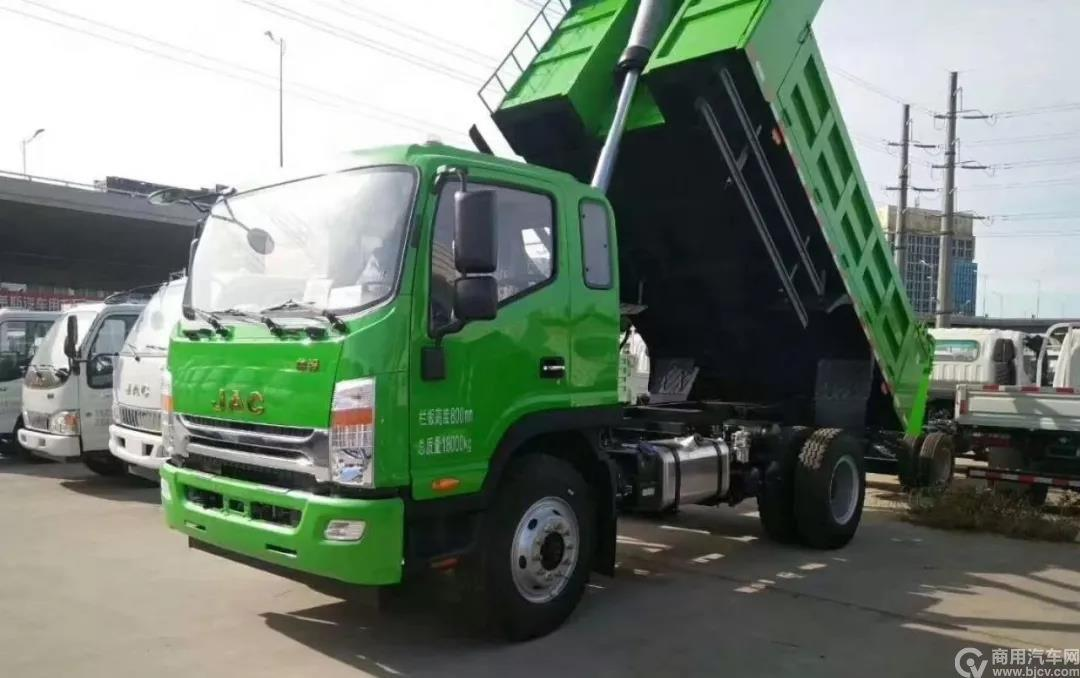truck: (150, 2, 956, 639)
